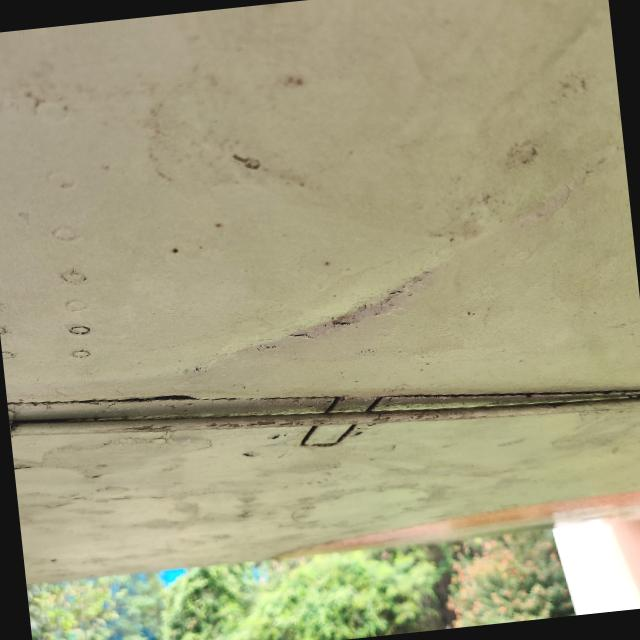dent: (190, 208, 490, 390)
